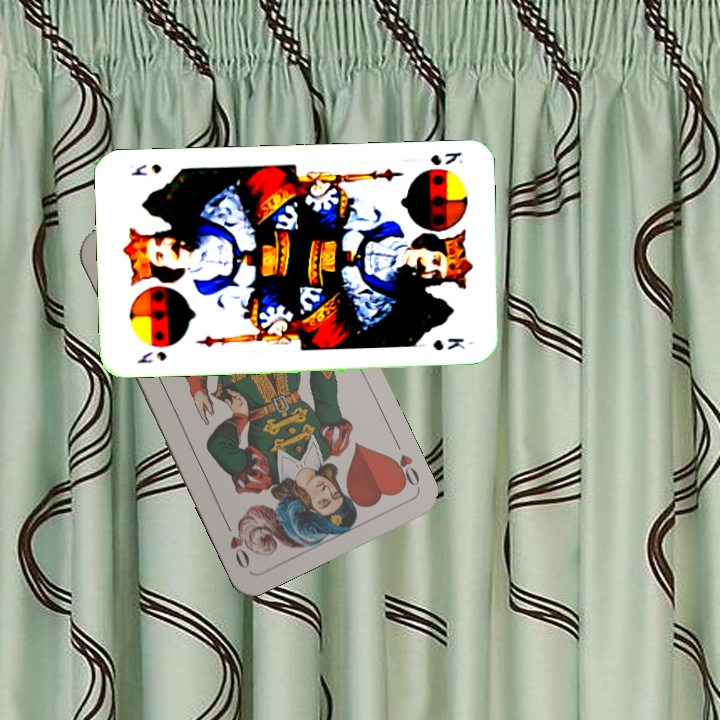HO: (385, 435, 423, 491)
SK: (427, 148, 465, 168), (133, 347, 169, 366)
